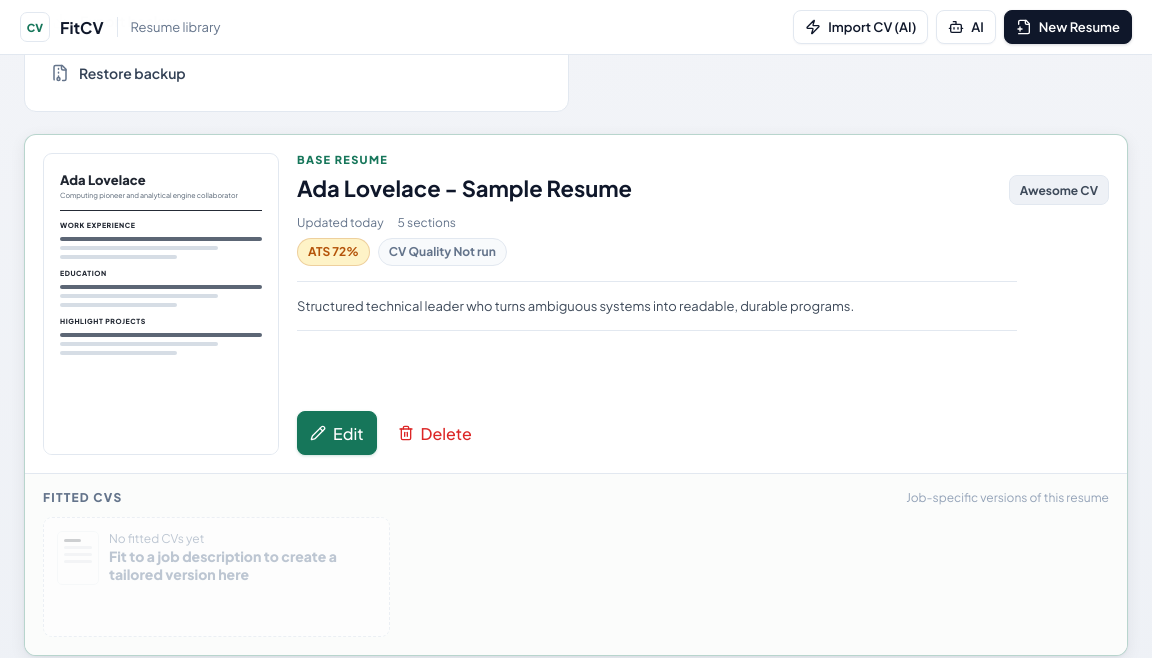
Scenario: FitCV UI shell › adds modules from a single Add Module menu
The image size is (1152, 658).
(page scrolled)
Click the button "Edit" at (337, 433), box [297,411,376,455]
(page scrolled)
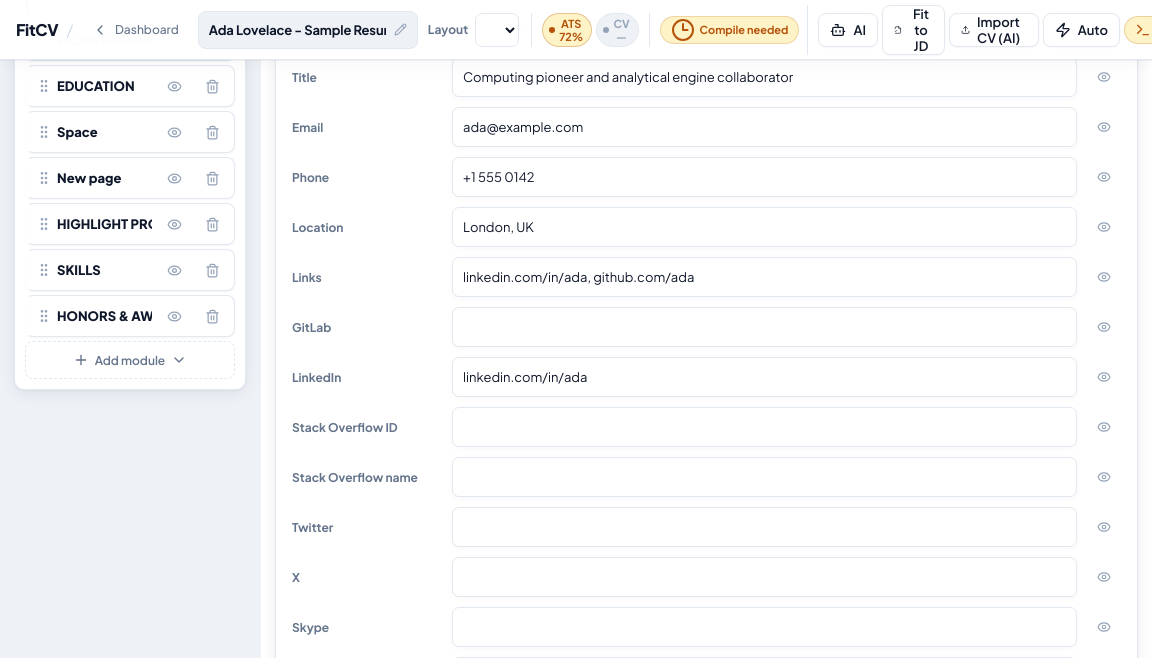
Click the button "Add module" at (130, 360), box [25,341,235,379]
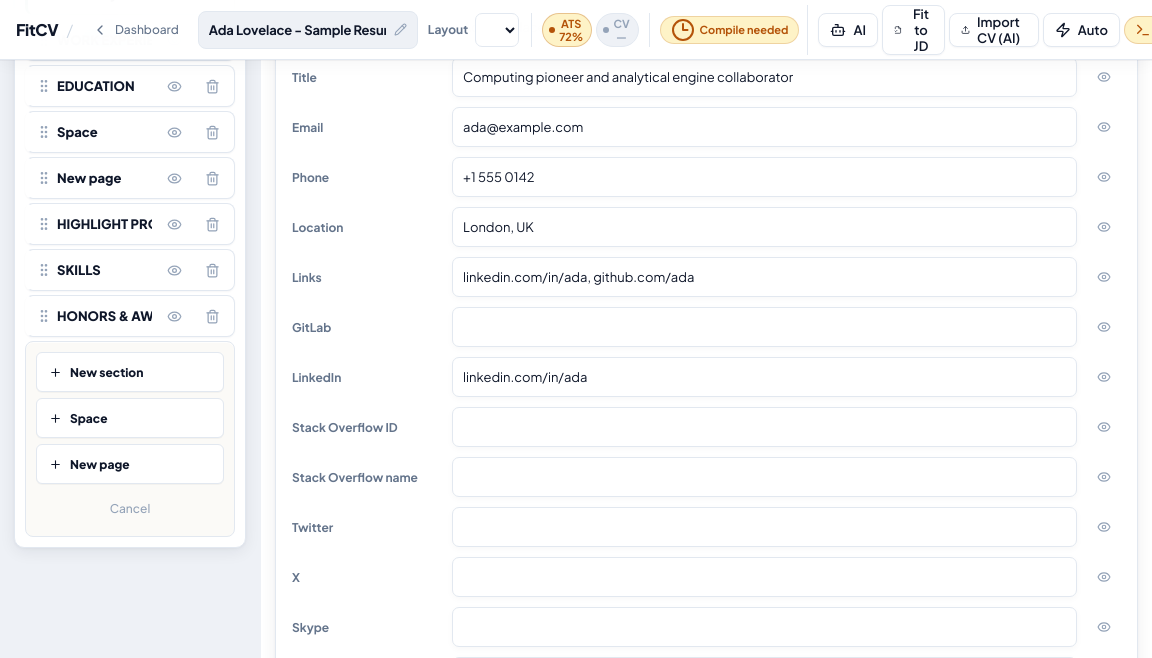
Result: the menu named "Add module options" is shown at [25,341,235,537]
Result: the menu item "New section" is shown
Result: the menu item "Space" is shown at [36,398,224,438]
Click the menu item "New section" at (130, 372), box [36,352,224,392]
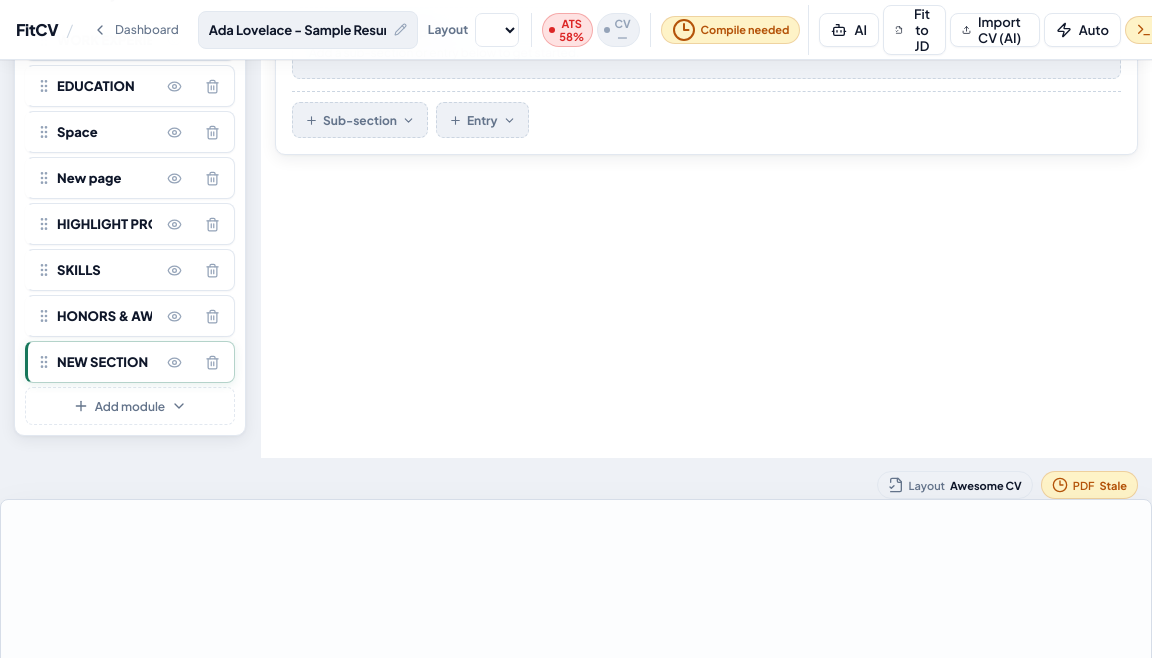
Expected: the number of buttons "WORK EXPERIENCE" is 1, [56,23,153,57]
Result: the button "NEW SECTION" is shown at [56,345,153,379]
